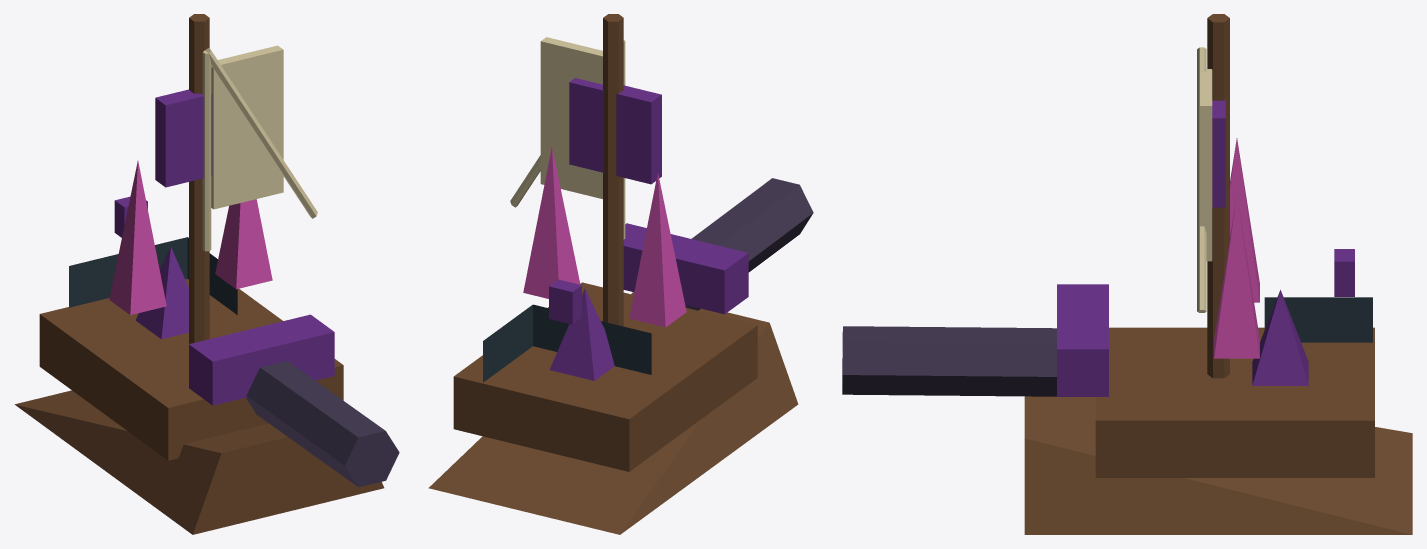
File: light-warship.obj
3 renders of one model, left to right at view 1: azimuth 30°, elevation 25°; view 2: azimuth 150°, elevation 25°; view 3: azimuth 270°, elevation 25°, orthographic. The views are drawn at different scales.
Visible parts, largest first — view 1: ship; view 2: ship; view 3: ship.
Boxes of the visible parts, <box> form: ship: <box>14,14,399,534</box>; ship: <box>428,14,813,534</box>; ship: <box>842,14,1412,534</box>.
Size of the model in its own units: 1.13 by 2.24 by 2.49.
